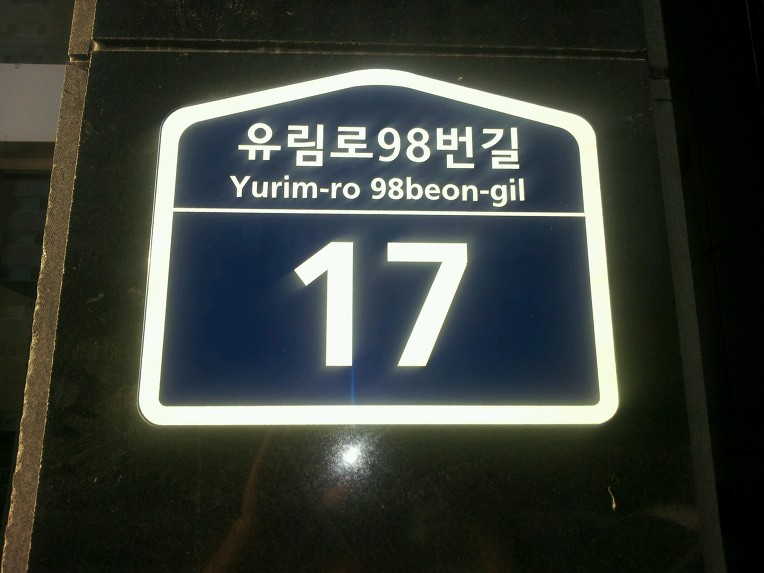building_license_plate1: (139, 70, 620, 427)
